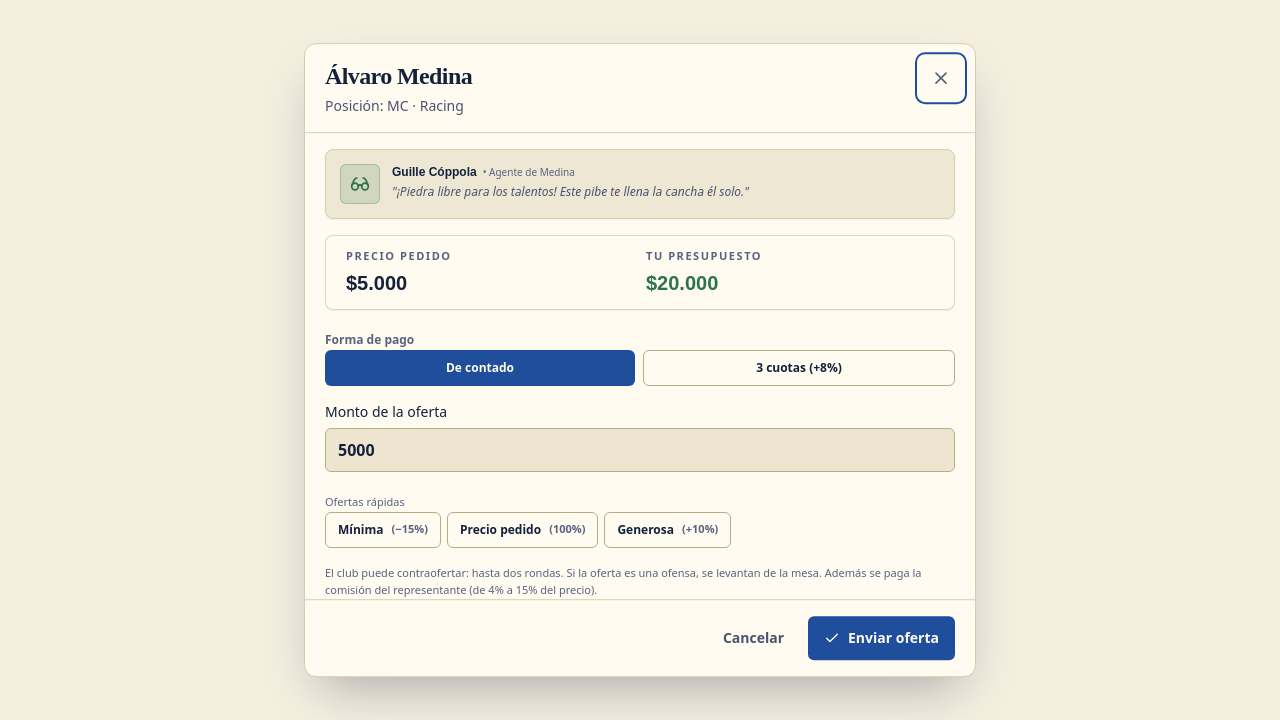
negociación del fichaje › contraoferta en la primera ronda: se puede aceptar y cierra el acuerdo
Replace the text in the number field labelled "Monto de la oferta" with "4000" at (640, 450), box [325,428,955,472]
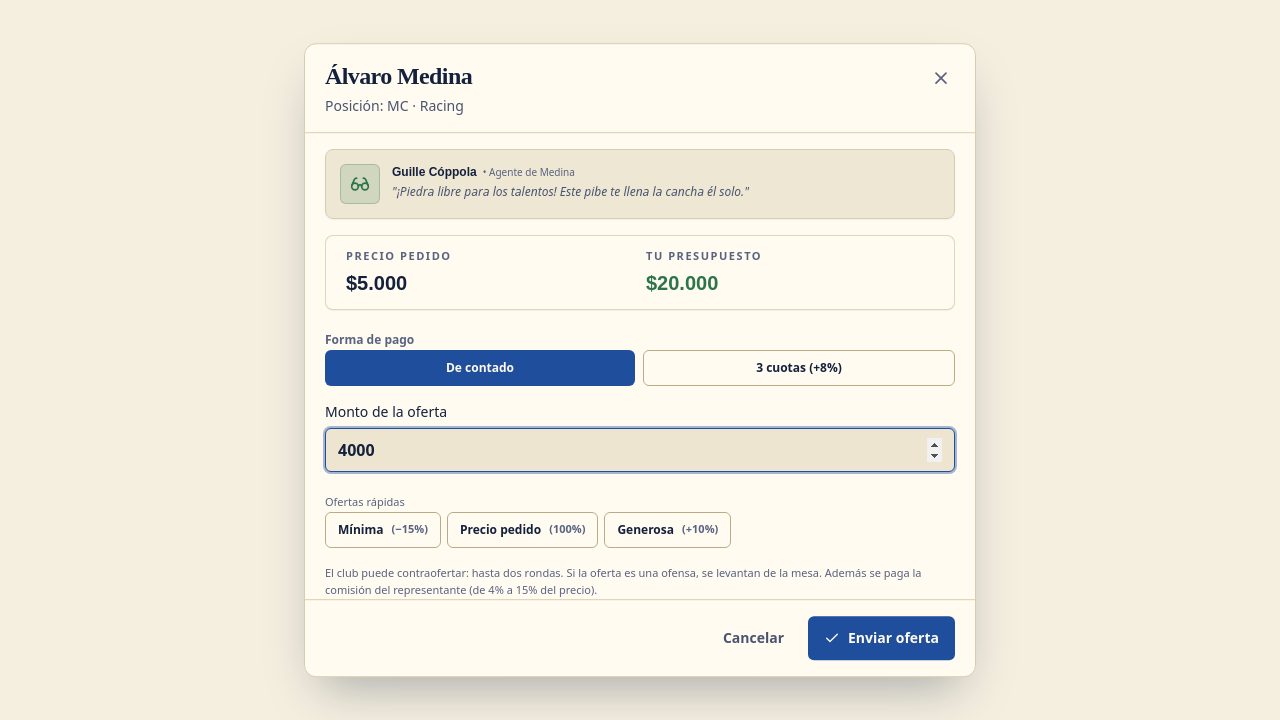
Click the button "Enviar oferta" at (882, 638), box [808,616,955,660]
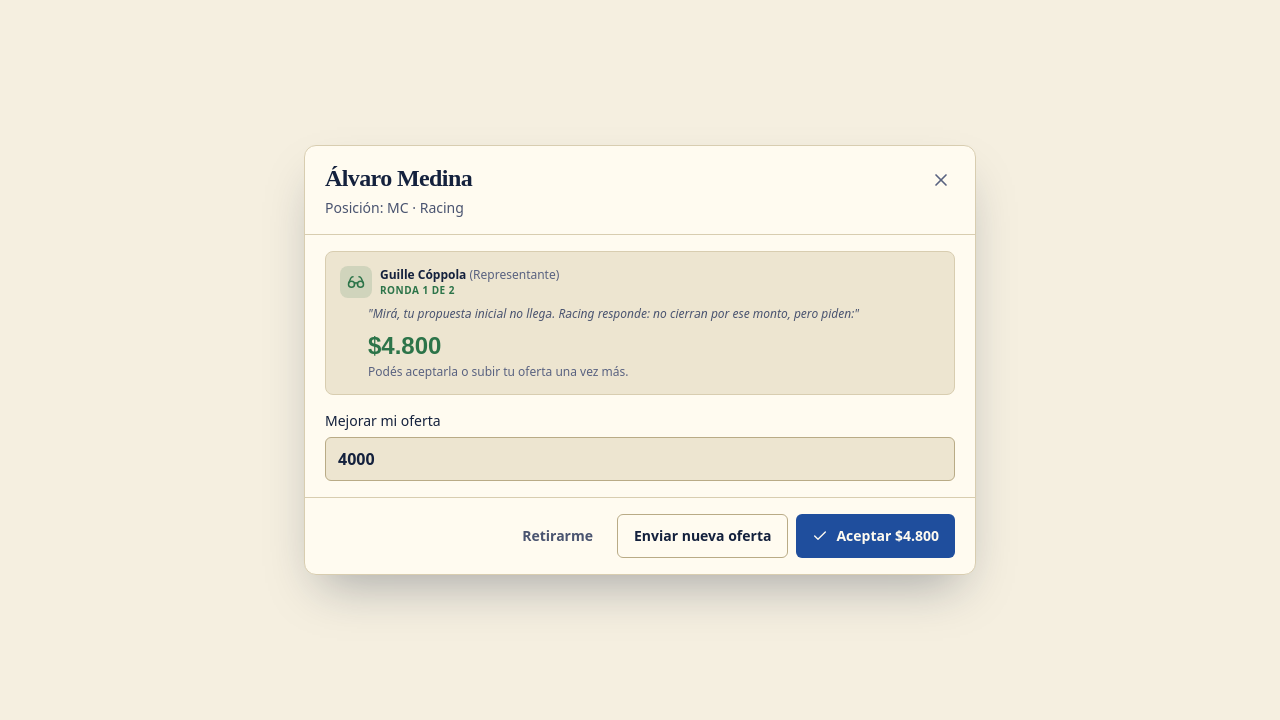
Check: the text "Ronda 1 de 2" is shown, box [380,282,455,296]
Check: the text "Podés aceptarla o subir tu oferta una vez más." is shown, box [368,363,628,380]
Click the button "Aceptar $4.800" at (876, 536), box [796,514,955,558]
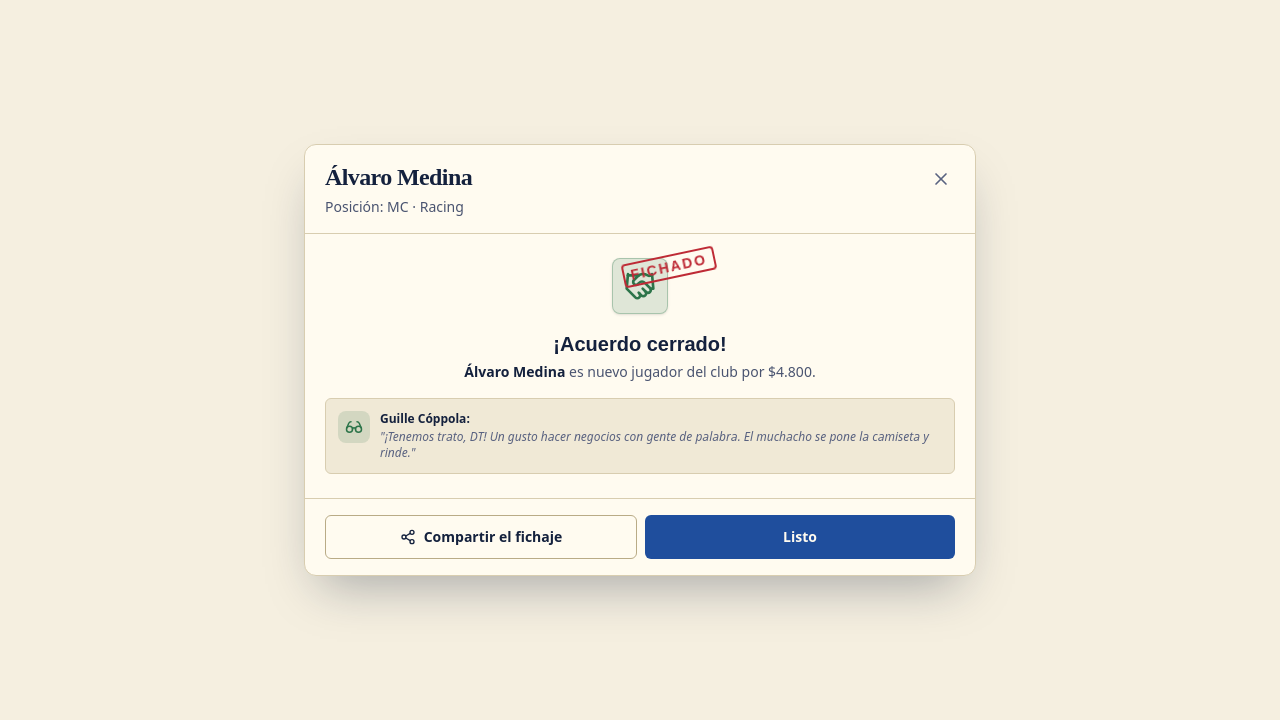
Check: the text "¡Acuerdo cerrado!" is shown, box [553,333,727,355]
Check: the text "Fichado" is shown, box [620,246,716,288]
